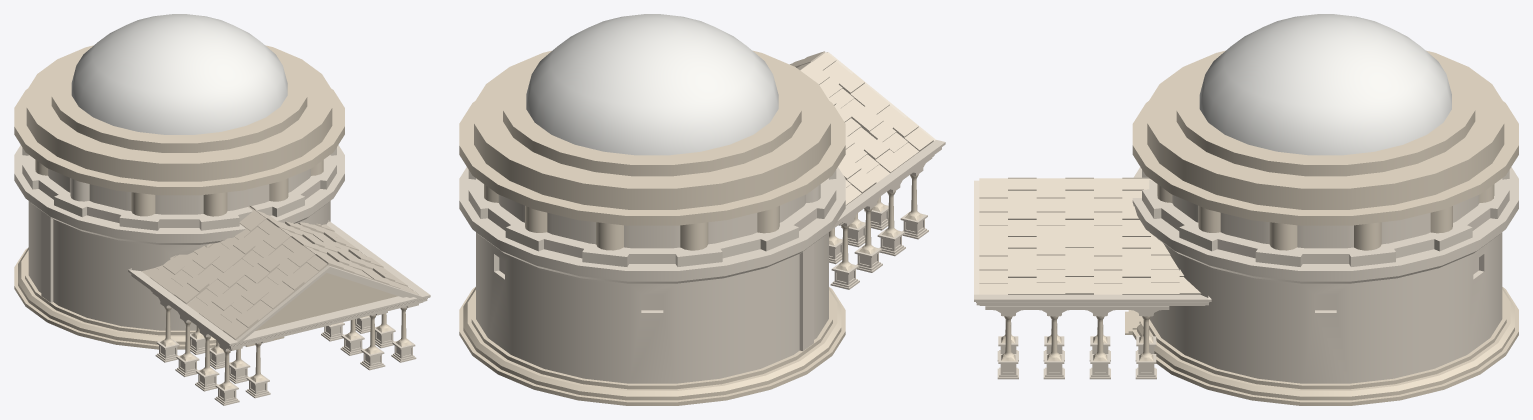
File: Church.fbx
3 renders of one model, left to right at view 1: azimuth 30°, elevation 25°; view 2: azimuth 150°, elevation 25°; view 3: azimuth 270°, elevation 25°, orthographic. The views are drawn at different scales.
Visible parts, largest first — view 1: buildings6; view 2: buildings6; view 3: buildings6.
Boxes of the visible parts, x1,y1,x2,y2 form: buildings6: [14, 14, 430, 405]; buildings6: [459, 14, 945, 405]; buildings6: [974, 14, 1518, 405].
Size of the model in its own units: 43.85 by 37.14 by 61.88.
